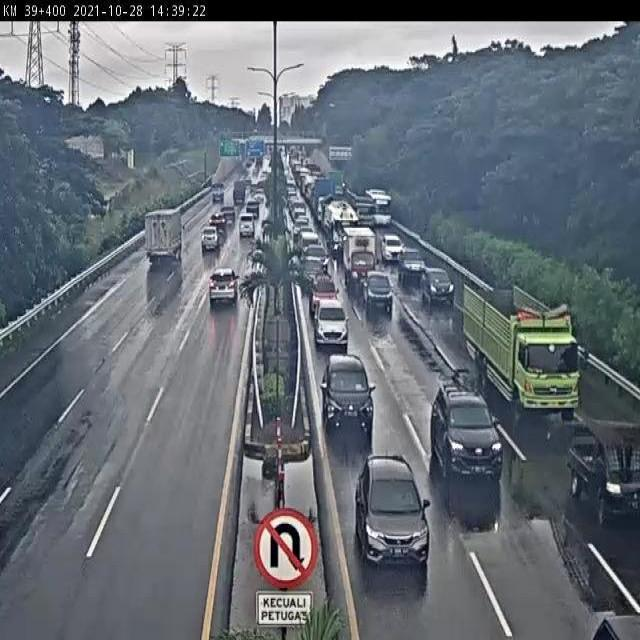car: (354, 453, 428, 564), (430, 385, 503, 480), (317, 355, 374, 432), (315, 300, 349, 347), (421, 265, 455, 303), (310, 275, 340, 315), (363, 272, 393, 309), (207, 271, 238, 305), (397, 249, 425, 280), (302, 244, 329, 271), (302, 257, 324, 288), (202, 225, 219, 251)
truck: (460, 285, 584, 419), (566, 419, 640, 525), (144, 210, 183, 262), (344, 225, 378, 284)
